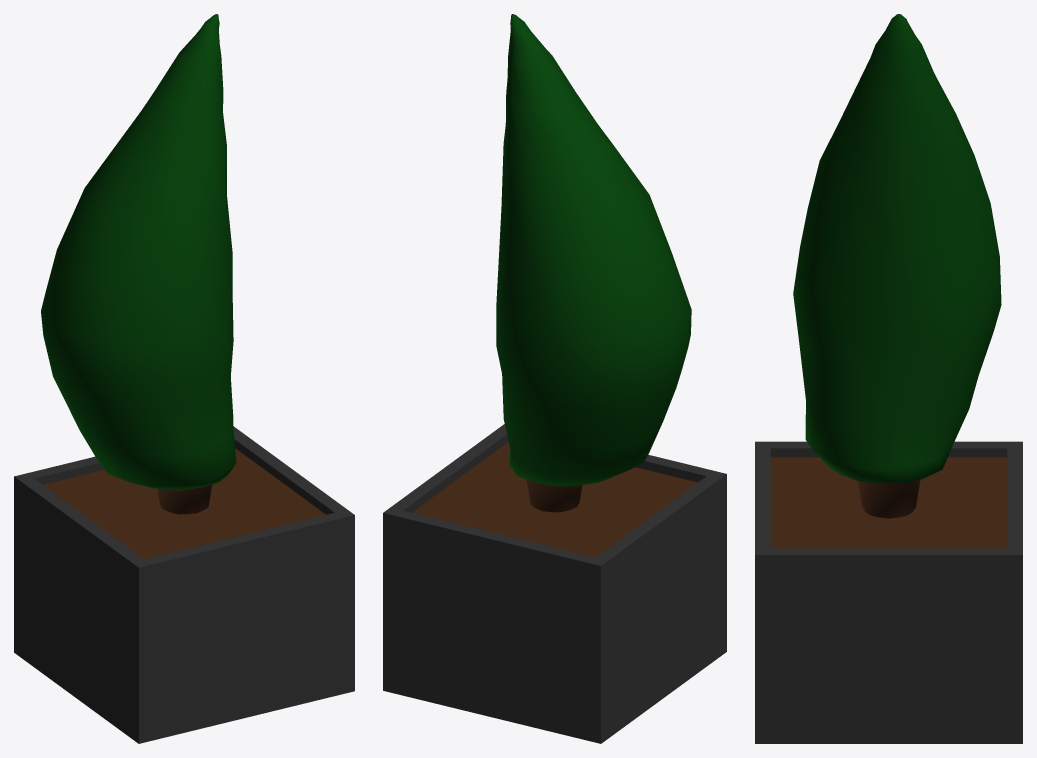
File: PottedShrubbery.fbx
3 renders of one model, left to right at view 1: azimuth 30°, elevation 25°; view 2: azimuth 150°, elevation 25°; view 3: azimuth 270°, elevation 25°, orthographic. The views are drawn at different scales.
Visible parts, largest first — view 1: Cube; view 2: Cube; view 3: Cube.
Boxes of the visible parts, bbox=[...] form: Cube: bbox=[14, 14, 354, 743]; Cube: bbox=[383, 14, 726, 743]; Cube: bbox=[755, 14, 1022, 743].
Size of the model in its own units: 122 by 320 by 112.
